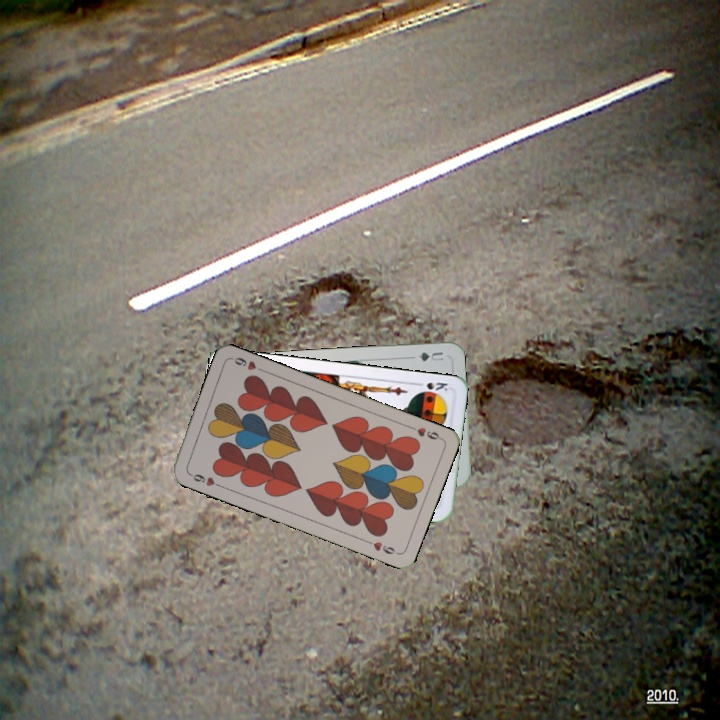GU: (414, 348, 446, 364)
H9: (185, 469, 224, 490), (405, 422, 444, 442)
SK: (411, 378, 450, 394)
